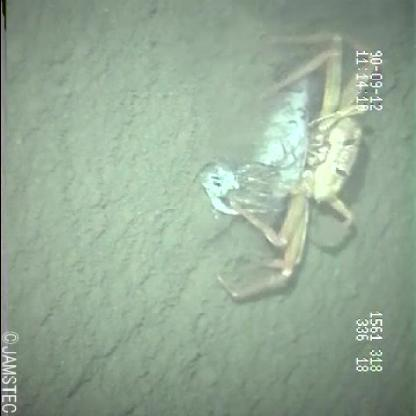Bio: (195, 22, 382, 306)
